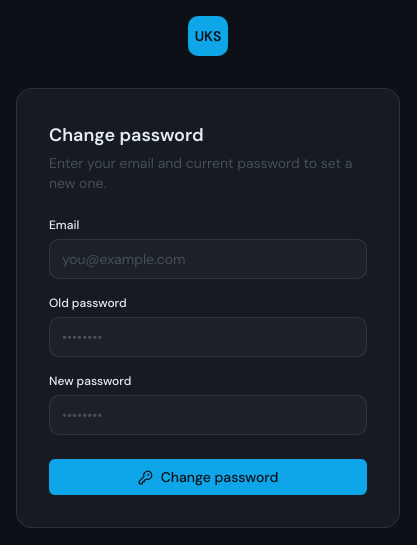
ChangePasswordPage › prikazuje success screen nakon uspešne promene
Type "test@test.com" into the field labelled "Email".
click(208, 259); type("test@test.com")  # box [50,240,366,278]
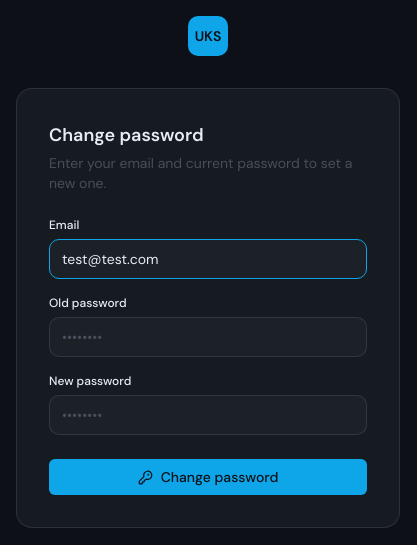
Type "OldPass1" into the password field labelled "Old password".
click(208, 337); type("OldPass1")  # box [50,318,366,356]
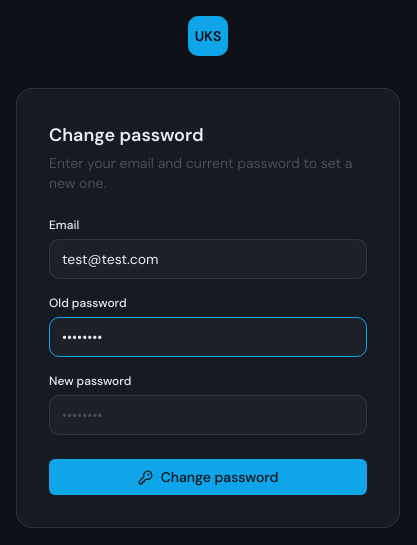
Type "NewPass1" into the password field labelled "New password".
click(208, 415); type("NewPass1")  # box [50,396,366,434]
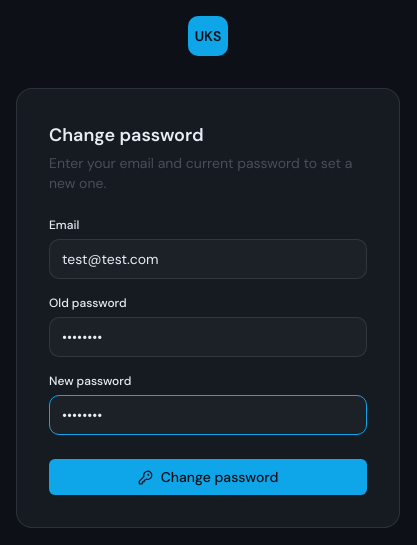
Click the button "Change password".
click(208, 477)  # box [49,459,367,495]
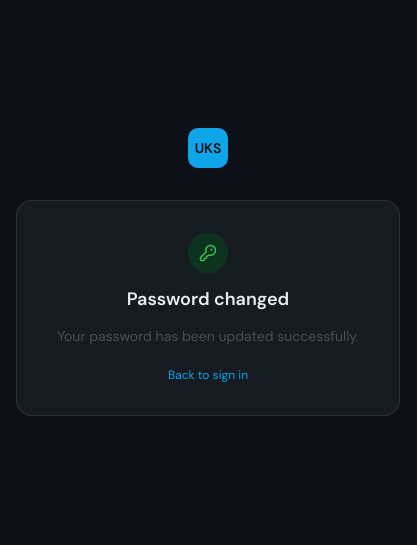
Expected: the heading "Password changed" is shown, [127,285,289,313]
Expected: the text "Your password has been updated successfully." is shown, [57,325,359,347]
Expected: the link "Back to sign in" is shown, [168,367,248,383]
